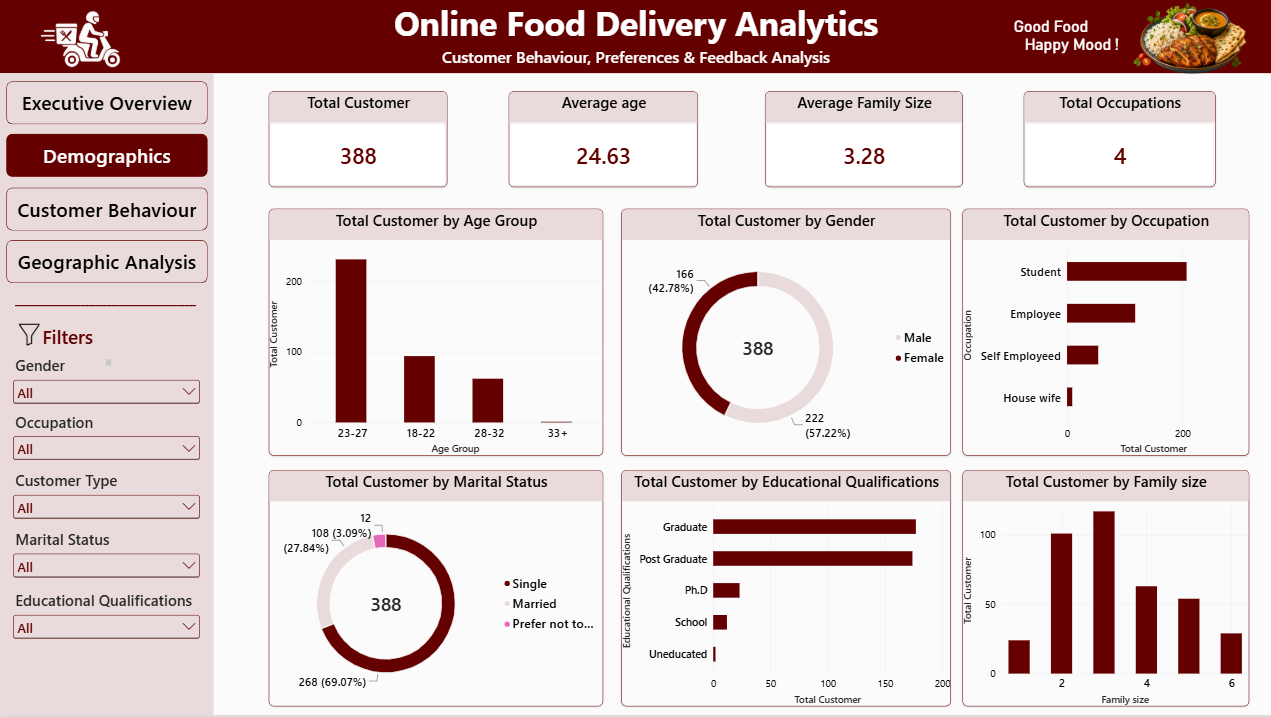

The page's visual inventory and layout, read from the dashboard file:
{"tool":"powerbi","page":{"name":"Customer Demographics","canvas":[1920,1080],"ordinal":1},"visuals":[{"type":"textbox","title":"Online Food Delivery Analytics","box":[0,0,1920.1,110.4],"z":0},{"type":"image","box":[36.2,0,175.5,110.4],"z":1000},{"type":"image","box":[1545.5,0,356.5,123.1],"z":2000},{"type":"textbox","box":[0,110.4,322.1,970],"z":3000},{"type":"actionButton","box":[9,123.1,304,65.1],"z":4000},{"type":"textbox","box":[1467.6,27.1,237.1,128.5],"z":5000},{"type":"actionButton","box":[9,202.7,304,65.1],"z":6000},{"type":"actionButton","box":[9,282.3,304,65.1],"z":7000},{"type":"actionButton","box":[9,361.9,304,65.1],"z":8000},{"type":"textbox","box":[21.7,445.2,291.4,181],"z":9000},{"type":"textbox","title":"Filters","box":[36.2,488.6,132.1,63.3],"z":10000},{"type":"image","box":[21.7,488.6,43.4,32.6],"z":11000},{"type":"slicer","title":"Gender","fields":{"Values":["online food delivery dataset (1).Gender"]},"box":[14.5,535.7,291.4,85.1],"z":12000},{"type":"slicer","fields":{"Values":["online food delivery dataset (1).Occupation"]},"box":[14.5,620.7,291.4,88.7],"z":13000},{"type":"slicer","fields":{"Values":["online food delivery dataset (1).Customer Type"]},"box":[14.5,709.4,291.4,76],"z":14000},{"type":"slicer","fields":{"Values":["online food delivery dataset (1).Marital Status"]},"box":[14.5,798.1,291.4,92.3],"z":15000},{"type":"slicer","fields":{"Values":["online food delivery dataset (1).Educational Qualifications"]},"box":[14.5,890.4,291.4,92.3],"z":16000},{"type":"cardVisual","title":"Total Customer","fields":{"Data":["online food delivery dataset (1).Total Customer"]},"box":[405.4,137.5,269.6,144.8],"z":17000},{"type":"cardVisual","title":"Average age","fields":{"Data":["online food delivery dataset (1).Average age"]},"box":[767.3,137.5,285.9,144.8],"z":18000},{"type":"cardVisual","title":"Average Family Size","fields":{"Data":["online food delivery dataset (1).Average Family Size"]},"box":[1154.6,137.5,298.6,144.8],"z":19000},{"type":"cardVisual","title":"Total Occupations","fields":{"Data":["online food delivery dataset (1).Total Occupations"]},"box":[1545.5,137.5,289.5,144.8],"z":20000},{"type":"clusteredColumnChart","fields":{"Category":["online food delivery dataset (1).Age Group"],"Y":["online food delivery dataset (1).Total Customer"]},"box":[405.4,314.9,504.9,372.8],"z":21000},{"type":"donutChart","fields":{"Category":["online food delivery dataset (1).Gender"],"Y":["online food delivery dataset (1).Total Customer"]},"box":[937.4,314.9,497.7,372.8],"z":22000},{"type":"clusteredBarChart","fields":{"Category":["online food delivery dataset (1).Occupation"],"Y":["online food delivery dataset (1).Total Customer"]},"box":[1453.2,314.9,432.5,372.8],"z":23000},{"type":"donutChart","fields":{"Category":["online food delivery dataset (1).Marital Status"],"Y":["online food delivery dataset (1).Total Customer"]},"box":[405.4,709.4,504.9,356.5],"z":24000},{"type":"clusteredBarChart","fields":{"Category":["online food delivery dataset (1).Educational Qualifications"],"Y":["online food delivery dataset (1).Total Customer"]},"box":[937.4,709.4,497.7,356.5],"z":25000},{"type":"clusteredColumnChart","fields":{"Category":["online food delivery dataset (1).Family size"],"Y":["online food delivery dataset (1).Total Customer"]},"box":[1453.2,709.4,432.5,356.5],"z":26000}]}

Visuals, with their boxes in screenshot pixels (x1, y1, x2, y2), scaled from the page's 1920x1080 canvas onto the 1271x717 screenshot:
"Online Food Delivery Analytics" textbox: locate(0, 0, 1270, 73)
image: locate(24, 0, 140, 73)
image: locate(1023, 0, 1259, 82)
textbox: locate(0, 73, 213, 716)
actionButton: locate(6, 82, 207, 125)
textbox: locate(972, 18, 1128, 103)
actionButton: locate(6, 135, 207, 178)
actionButton: locate(6, 187, 207, 231)
actionButton: locate(6, 240, 207, 283)
textbox: locate(14, 296, 207, 416)
"Filters" textbox: locate(24, 324, 111, 366)
image: locate(14, 324, 43, 346)
"Gender" slicer: locate(10, 356, 202, 412)
slicer - online food delivery dataset (1).Occupation: locate(10, 412, 202, 471)
slicer - online food delivery dataset (1).Customer Type: locate(10, 471, 202, 521)
slicer - online food delivery dataset (1).Marital Status: locate(10, 530, 202, 591)
slicer - online food delivery dataset (1).Educational Qualifications: locate(10, 591, 202, 652)
"Total Customer" cardVisual: locate(268, 91, 447, 187)
"Average age" cardVisual: locate(508, 91, 697, 187)
"Average Family Size" cardVisual: locate(764, 91, 962, 187)
"Total Occupations" cardVisual: locate(1023, 91, 1215, 187)
clusteredColumnChart - online food delivery dataset (1).Age Group x online food delivery dataset (1).Total Customer: locate(268, 209, 603, 457)
donutChart - online food delivery dataset (1).Gender x online food delivery dataset (1).Total Customer: locate(621, 209, 950, 457)
clusteredBarChart - online food delivery dataset (1).Occupation x online food delivery dataset (1).Total Customer: locate(962, 209, 1248, 457)
donutChart - online food delivery dataset (1).Marital Status x online food delivery dataset (1).Total Customer: locate(268, 471, 603, 708)
clusteredBarChart - online food delivery dataset (1).Educational Qualifications x online food delivery dataset (1).Total Customer: locate(621, 471, 950, 708)
clusteredColumnChart - online food delivery dataset (1).Family size x online food delivery dataset (1).Total Customer: locate(962, 471, 1248, 708)
